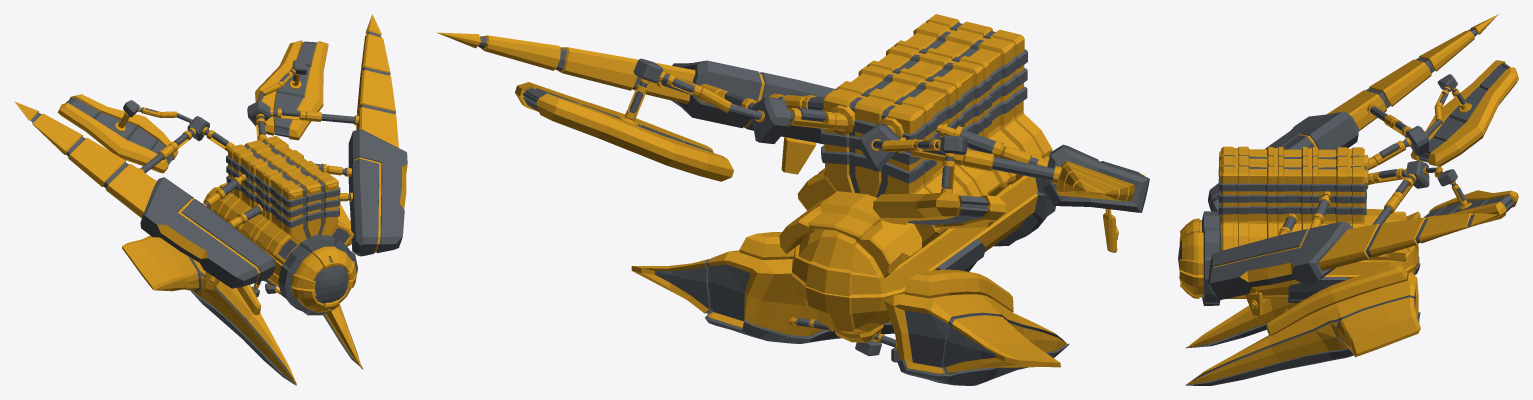
The model's file is Fighter_03_Yellow.fbx.
3 views of the same model, side by side, from view 1: azimuth 30°, elevation 25°; view 2: azimuth 150°, elevation 25°; view 3: azimuth 270°, elevation 25° (orthographic). The views are drawn at different scales.
Parts seen in each view (by area): view 1: Fighter_03_Yellow; view 2: Fighter_03_Yellow; view 3: Fighter_03_Yellow.
Part boxes in pixels (x1,y1,x2,y2): Fighter_03_Yellow: [14, 14, 407, 385]; Fighter_03_Yellow: [437, 14, 1149, 385]; Fighter_03_Yellow: [1178, 14, 1518, 385].
Bounding box in the file's own units: 1519 × 892 × 1091.
2 materials, 2 textured.
